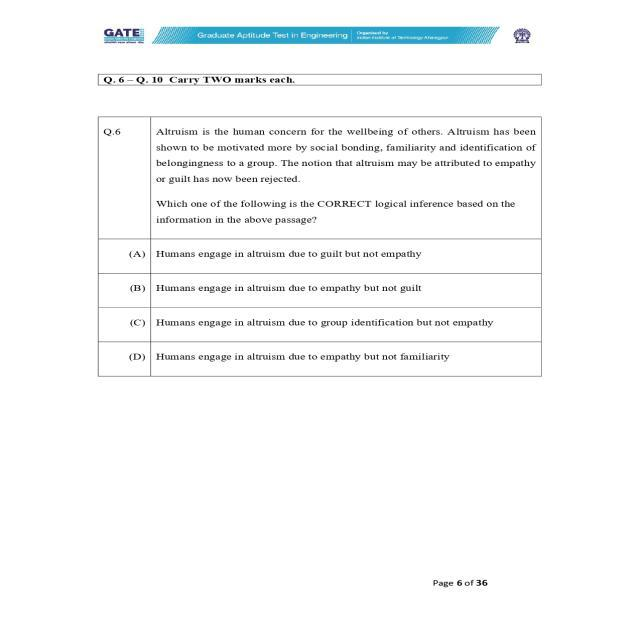Answer_Block: (96, 236, 542, 378)
Question_Answer_Block: (96, 118, 542, 378)
Question_Block: (96, 117, 542, 240)
Question_Paper_Area: (96, 74, 542, 379)
